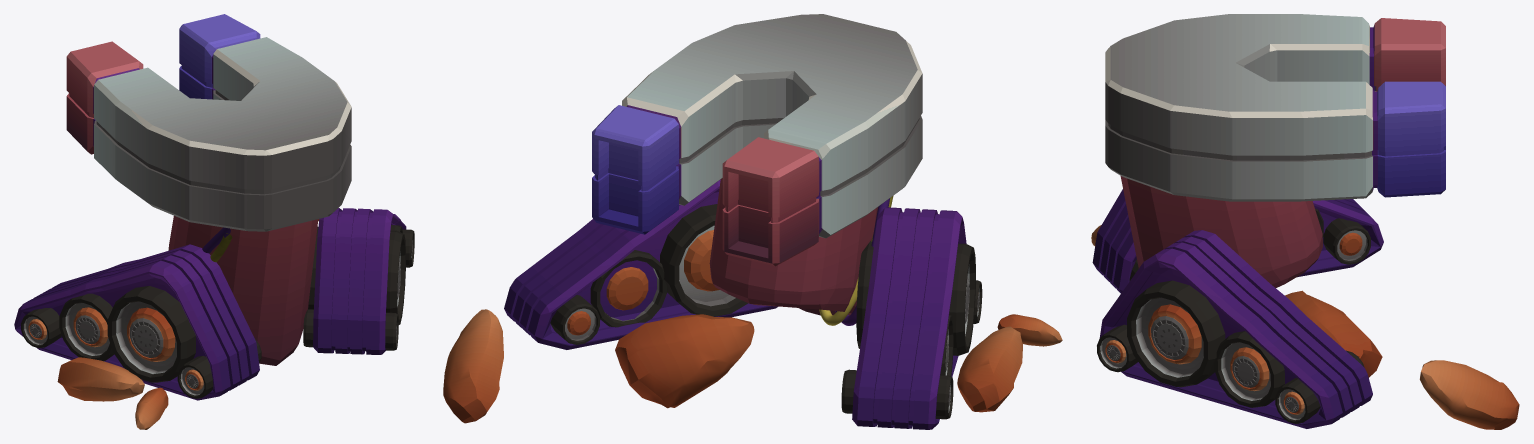
File: Thermal Haul_Magnet.glb
3 renders of one model, left to right at view 1: azimuth 30°, elevation 25°; view 2: azimuth 150°, elevation 25°; view 3: azimuth 270°, elevation 25°, orthographic. The views are drawn at different scales.
Parts seen in each view (by area): view 1: Magnet; view 2: Magnet; view 3: Magnet.
Boxes of the visible parts, x1,y1,x2,y2 form: Magnet: (14,14,414,429); Magnet: (443,14,1062,429); Magnet: (1091,14,1519,429).
Bounding box in the file's own units: 2 × 1.36 × 1.73.
Materials: 1 (1 with a texture image).
